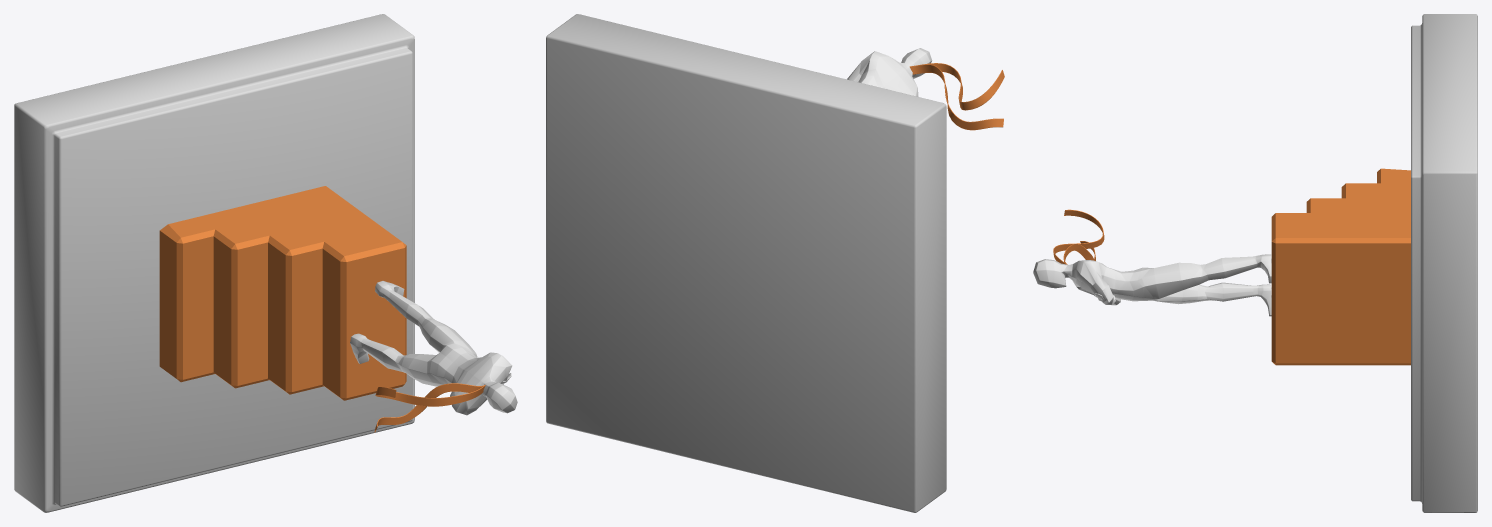
The picture shows the model from 3 angles, left to right: view 1: azimuth 30°, elevation 25°; view 2: azimuth 150°, elevation 25°; view 3: azimuth 270°, elevation 25°; orthographic projection. The views are drawn at different scales.
Visible parts, largest first — view 1: shadeWhite.001, shadewhite, shadeOrange.002, shadeWhite_034, shadeWhite_035; view 2: shadeWhite.001, shadeOrange.002, shadeWhite_035, shadeWhite_034; view 3: shadeWhite.001, shadewhite, shadeOrange.002, shadeWhite_034.
Boxes of the visible parts, x1=… form: shadeWhite.001: x1=14, y1=14, x2=414, y2=512; shadewhite: x1=159, y1=186, x2=406, y2=400; shadeOrange.002: x1=350, y1=281, x2=517, y2=415; shadeWhite_034: x1=375, y1=385, x2=485, y2=406; shadeWhite_035: x1=374, y1=383, x2=484, y2=432; shadeWhite.001: x1=546, y1=14, x2=946, y2=512; shadeOrange.002: x1=847, y1=48, x2=932, y2=96; shadeWhite_035: x1=909, y1=64, x2=1003, y2=130; shadeWhite_034: x1=914, y1=63, x2=1004, y2=110; shadeWhite.001: x1=1411, y1=14, x2=1477, y2=512; shadewhite: x1=1271, y1=168, x2=1410, y2=365; shadeOrange.002: x1=1033, y1=254, x2=1271, y2=316; shadeWhite_034: x1=1053, y1=209, x2=1104, y2=264.
Size of the model in its own units: 7.93 by 7.93 by 9.36.
